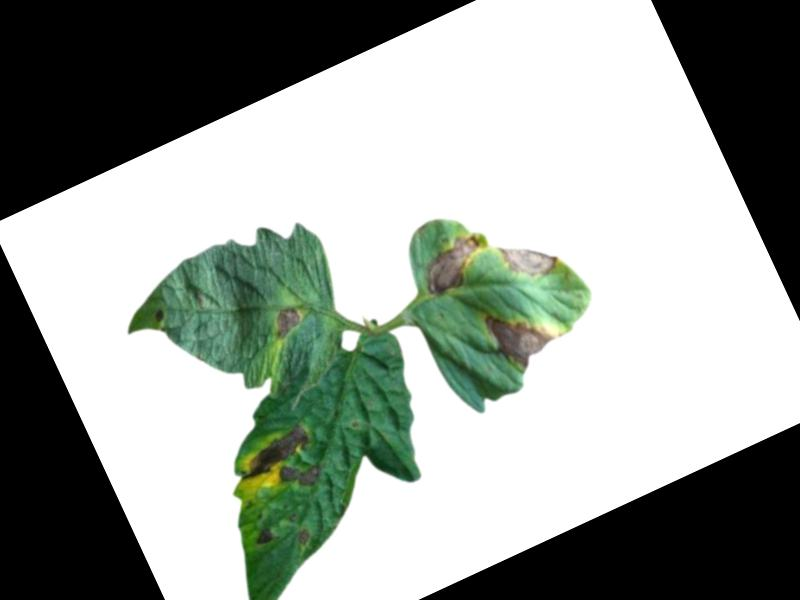Early_blight: (230, 421, 333, 512), (482, 294, 561, 377), (414, 230, 495, 303), (497, 223, 566, 290), (268, 302, 308, 340), (252, 525, 276, 549), (151, 305, 169, 326), (295, 528, 314, 547)
